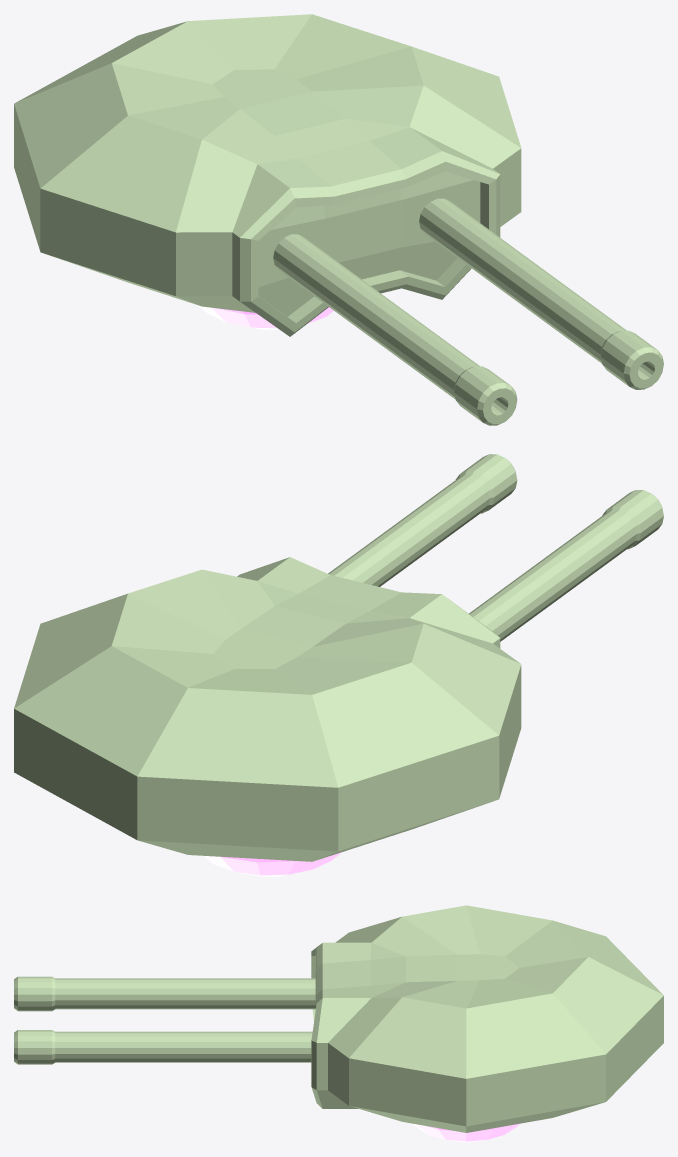
File: turret_head.fbx
3 renders of one model, top to bottom at view 1: azimuth 30°, elevation 25°; view 2: azimuth 150°, elevation 25°; view 3: azimuth 270°, elevation 25°, orthographic. The views are drawn at different scales.
Parts seen in each view (by area): view 1: Sphere, Cylinder; view 2: Sphere, Cylinder; view 3: Sphere, Cylinder.
Part boxes in pixels (<box>): Sphere: <box>14,14,521,336</box>; Cylinder: <box>273,198,663,425</box>; Sphere: <box>14,557,521,876</box>; Cylinder: <box>328,454,663,641</box>; Sphere: <box>311,905,663,1142</box>; Cylinder: <box>14,976,315,1064</box>.
Bounding box in the file's own units: 190 × 94.49 × 313.
